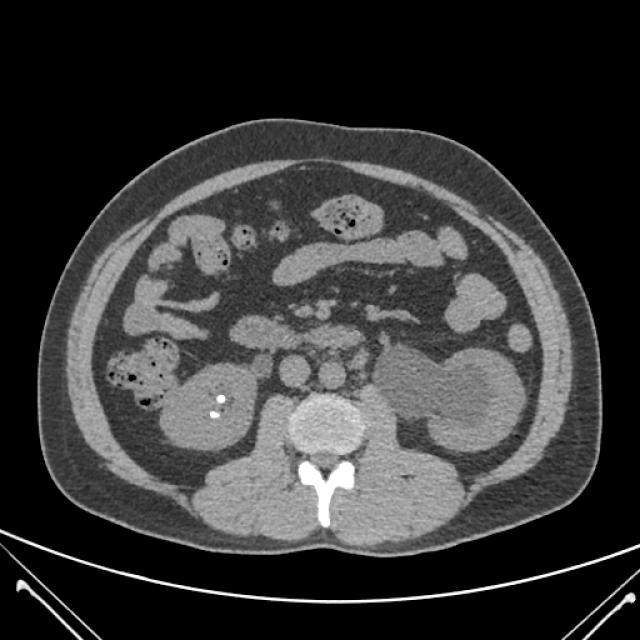kidneystone: (216, 394, 226, 403), (209, 412, 219, 419)
